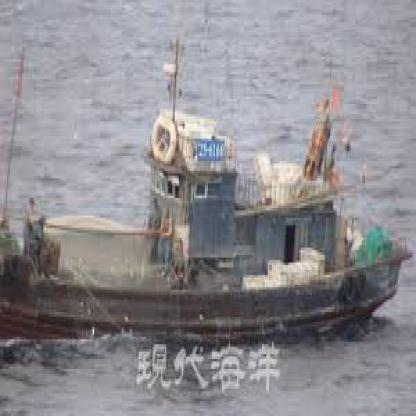fish-b: (0, 84, 415, 352)
